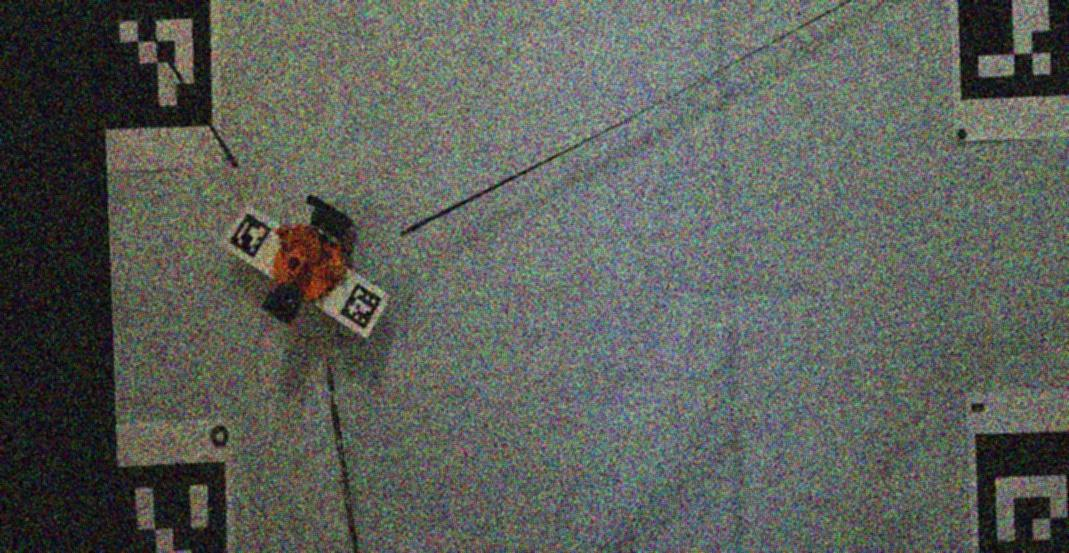robot: (263, 193, 358, 325)
